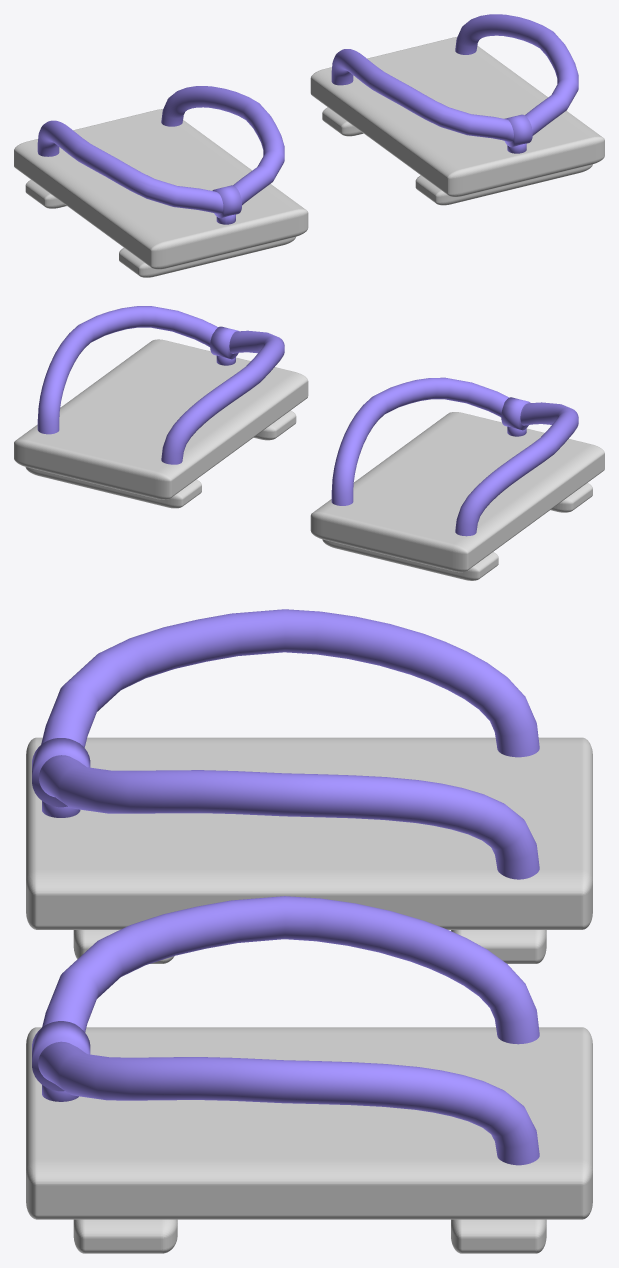
File: shoes_ykv1o6xq1s.001.glb
The picture shows the model from 3 angles, top to bottom: view 1: azimuth 30°, elevation 25°; view 2: azimuth 150°, elevation 25°; view 3: azimuth 270°, elevation 25°; orthographic projection. The views are drawn at different scales.
Visible parts, largest first — view 1: Shoes.001; view 2: Shoes.001; view 3: Shoes.001.
Part boxes in pixels (left/top/right/bottom): Shoes.001: left=14, top=14, right=604, bottom=277; Shoes.001: left=14, top=306, right=604, bottom=580; Shoes.001: left=26, top=609, right=592, bottom=1253.
Size of the model in its own units: 0.6926 by 0.1396 by 0.3537.
